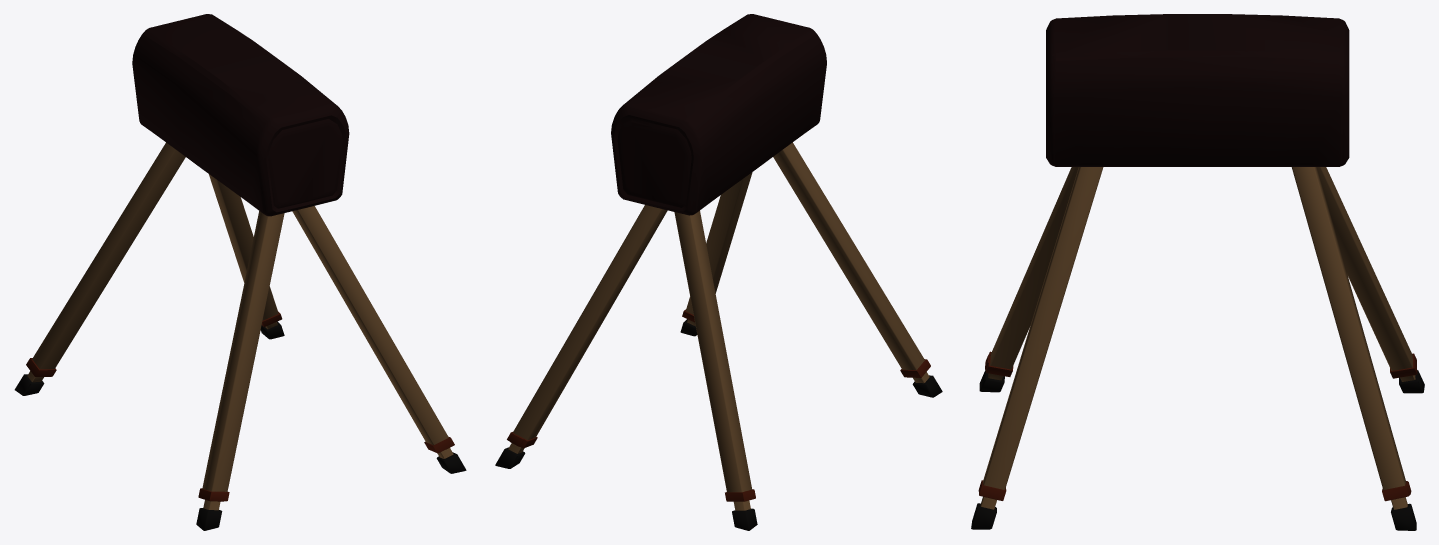
File: SportKozel01.FBX
3 views of the same model, side by side, from view 1: azimuth 30°, elevation 25°; view 2: azimuth 150°, elevation 25°; view 3: azimuth 270°, elevation 25° (orthographic). The views are drawn at different scales.
Parts seen in each view (by area): view 1: KozelLeather, KozelMetal; view 2: KozelLeather, KozelMetal; view 3: KozelLeather, KozelMetal.
Boxes of the visible parts, x1,y1,x2,y2 form: KozelLeather: [132, 14, 349, 216]; KozelMetal: [14, 142, 466, 530]; KozelLeather: [611, 14, 826, 215]; KozelMetal: [495, 142, 942, 530]; KozelLeather: [1046, 14, 1349, 166]; KozelMetal: [971, 167, 1424, 530].
Size of the model in its own units: 4238 by 5685 by 5498.
